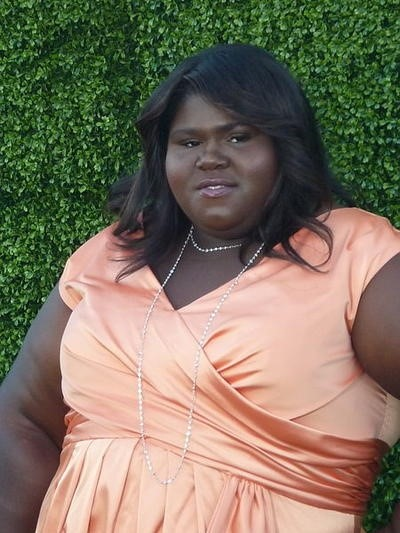face_no_mask: (161, 45, 301, 236)
